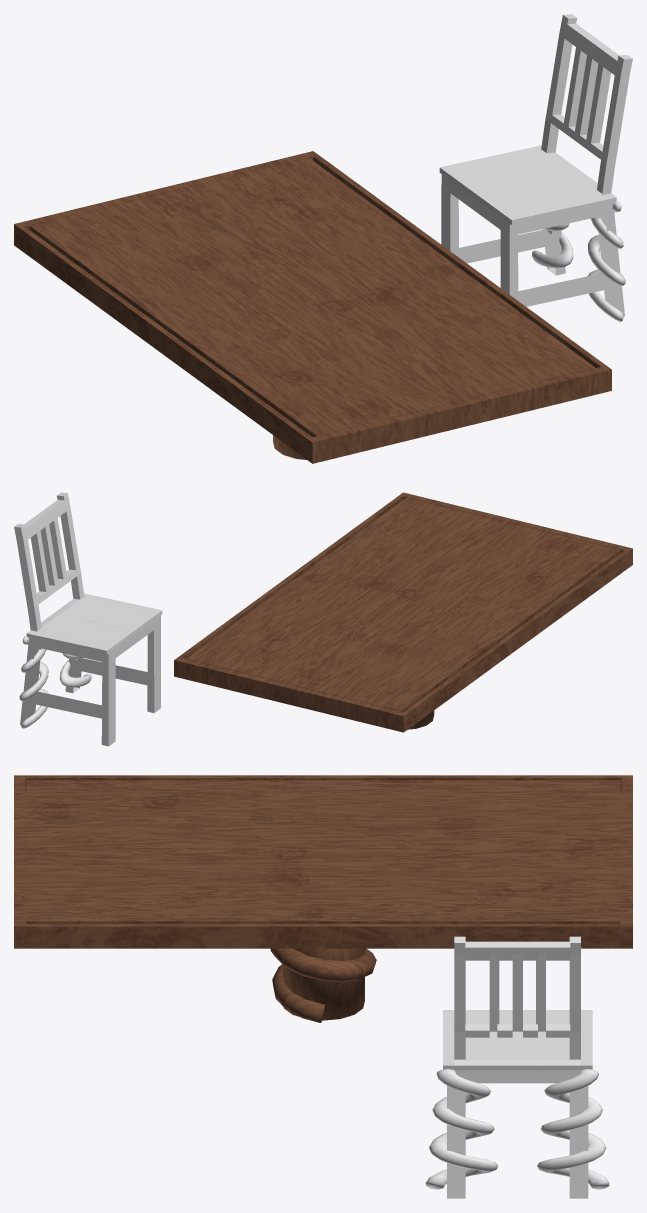
The model's file is Dining Set 2.fbx.
3 renders of one model, top to bottom at view 1: azimuth 30°, elevation 25°; view 2: azimuth 150°, elevation 25°; view 3: azimuth 270°, elevation 25°, orthographic. The views are drawn at different scales.
Parts seen in each view (by area): view 1: Cube.011, Cube.008; view 2: Cube.011, Cube.008; view 3: Cube.011, Cube.008.
Boxes of the visible parts, x1,y1,x2,y2 form: Cube.011: (14,151,611,463); Cube.008: (439,14,632,321); Cube.011: (174,492,632,732); Cube.008: (14,492,162,746); Cube.011: (14,775,632,1022); Cube.008: (425,936,609,1198).
Size of the model in its own units: 739 by 337 by 717.
